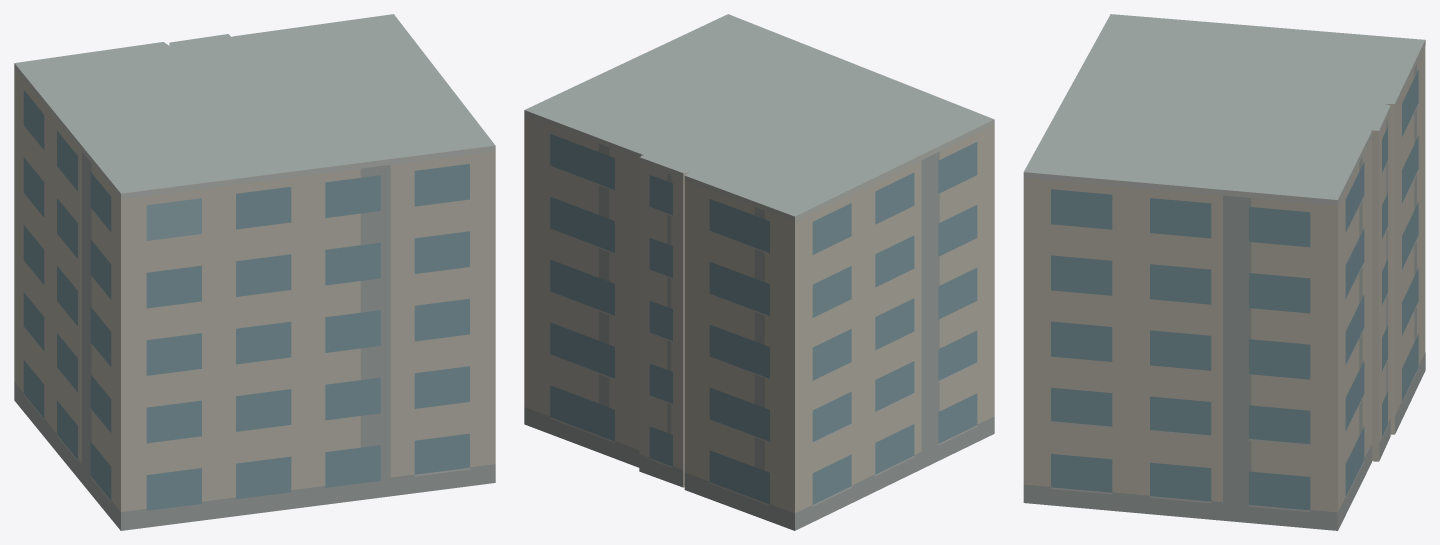
The model's file is survey-upis-32913112.glb.
3 views of the same model, side by side, from view 1: azimuth 30°, elevation 25°; view 2: azimuth 150°, elevation 25°; view 3: azimuth 270°, elevation 25° (orthographic). The views are drawn at different scales.
Parts seen in each view (by area): view 1: survey-upis-32913112.tmp; view 2: survey-upis-32913112.tmp; view 3: survey-upis-32913112.tmp.
Part boxes in pixels (<box>): survey-upis-32913112.tmp: <box>14,14,495,530</box>; survey-upis-32913112.tmp: <box>524,14,994,530</box>; survey-upis-32913112.tmp: <box>1023,14,1425,530</box>.
Size of the model in its own units: 17.14 by 14.2 by 15.64.
